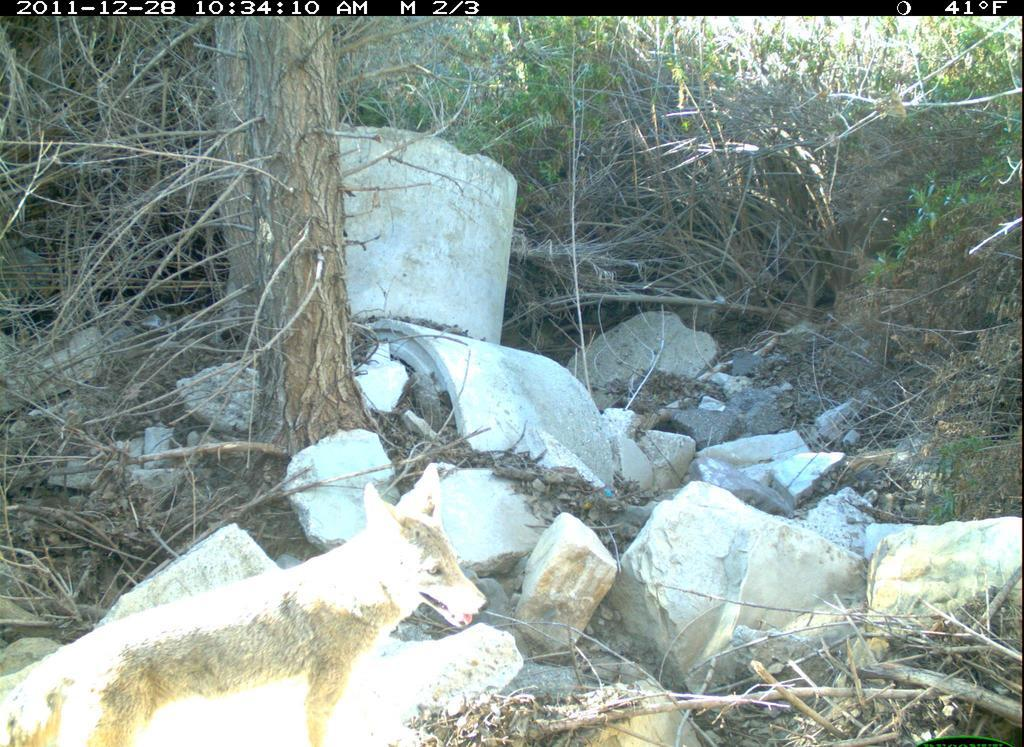coyote: (4, 457, 495, 747)
